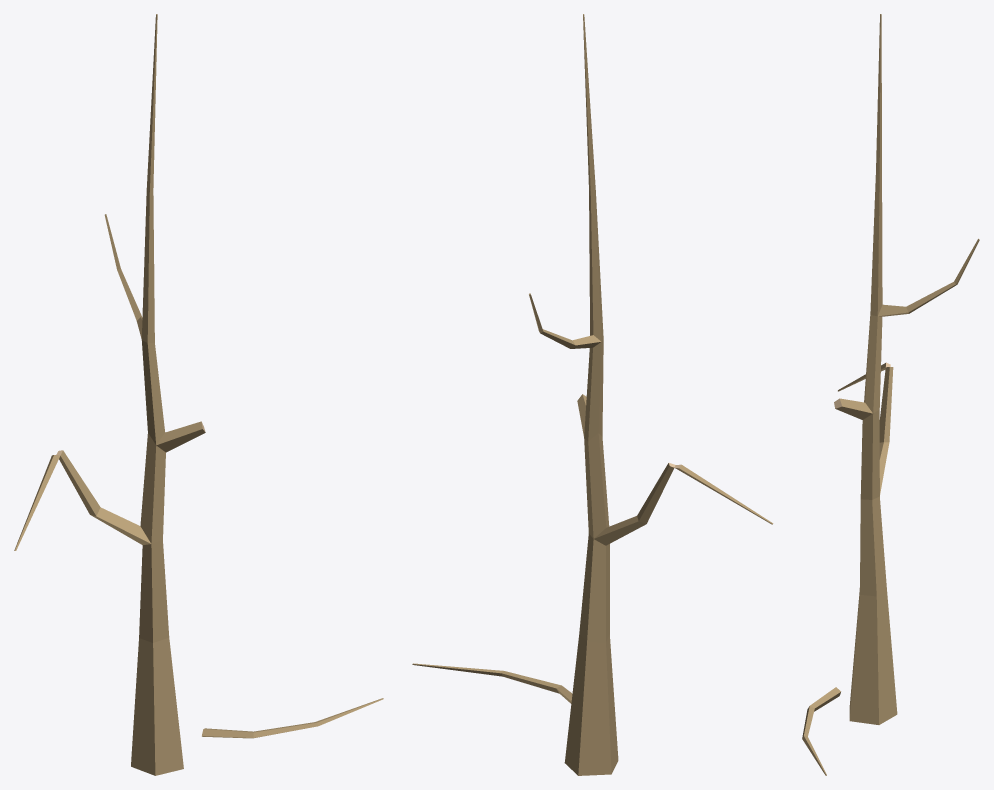
Rendered from Random_Tree_NoLeaves_crk_m_05_LOD.fbx.
The picture shows the model from 3 angles, left to right: view 1: azimuth 30°, elevation 25°; view 2: azimuth 150°, elevation 25°; view 3: azimuth 270°, elevation 25°; orthographic projection. The views are drawn at different scales.
Parts seen in each view (by area): view 1: Random_Tree_NoLeaves_crk_m_05_LOD0; view 2: Random_Tree_NoLeaves_crk_m_05_LOD0; view 3: Random_Tree_NoLeaves_crk_m_05_LOD0.
Boxes of the visible parts, x1=… form: Random_Tree_NoLeaves_crk_m_05_LOD0: x1=14, y1=14, x2=383, y2=775; Random_Tree_NoLeaves_crk_m_05_LOD0: x1=412, y1=14, x2=773, y2=775; Random_Tree_NoLeaves_crk_m_05_LOD0: x1=802, y1=14, x2=979, y2=775.
Size of what is drawn, in the model's own units: 451 by 885 by 203.
